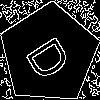D: (24, 29, 80, 84)
